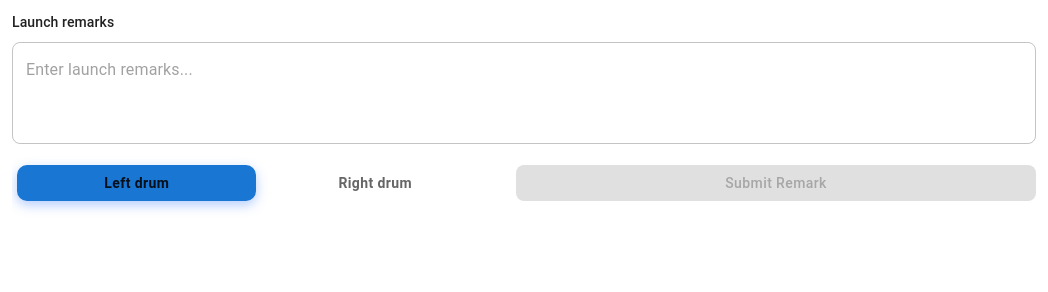
Test: RemarksPanel › shows error alert when submission fails
The width and height of the screenshot is (1048, 292).
In the text box with placeholder "Enter launch remarks...": point(524, 93) [26, 58, 1022, 128], type "Test remark"
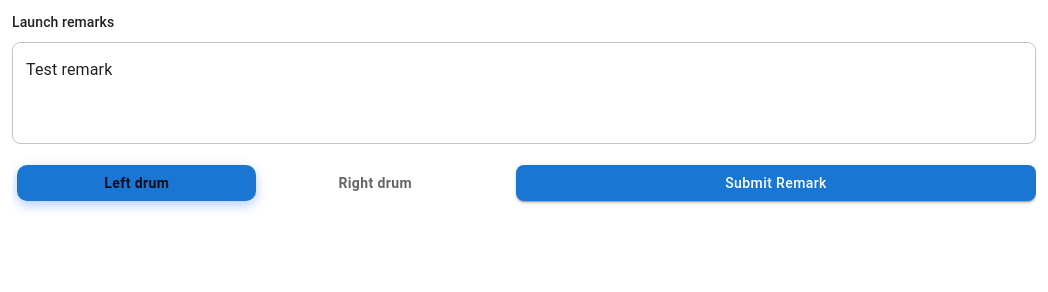
Click the button "Submit Remark": point(776, 183) [516, 165, 1036, 202]
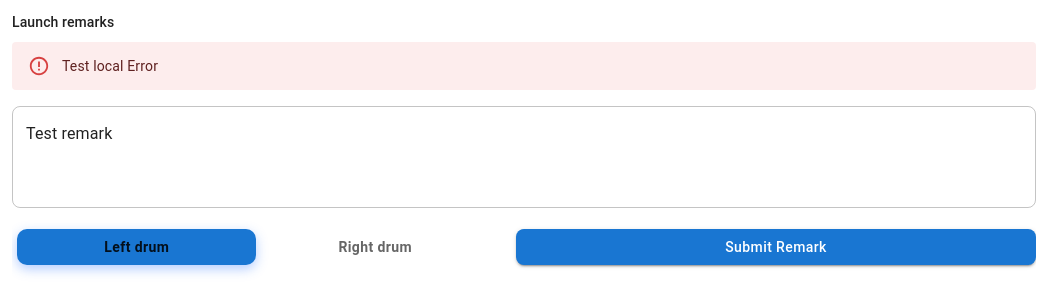
expect the text "Test local Error" is shown: met, box [62, 58, 158, 74]
